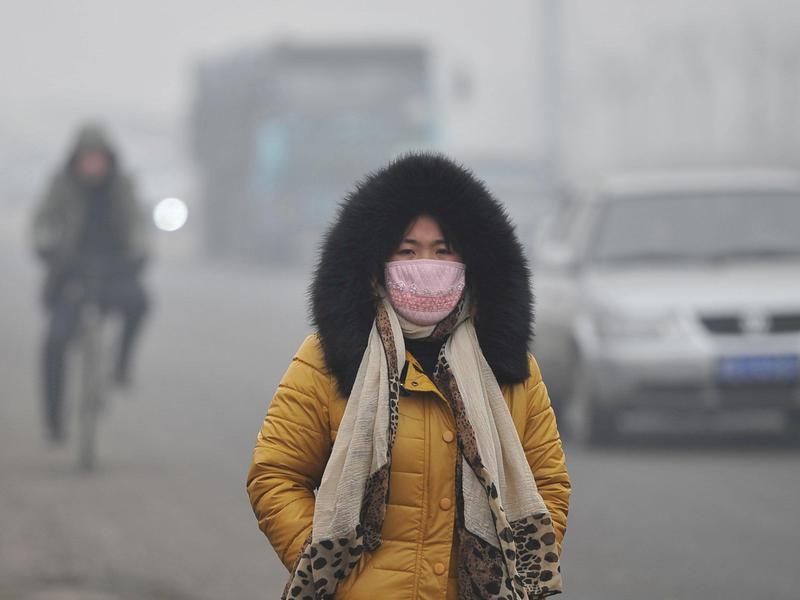with_mask: (381, 205, 472, 326)
